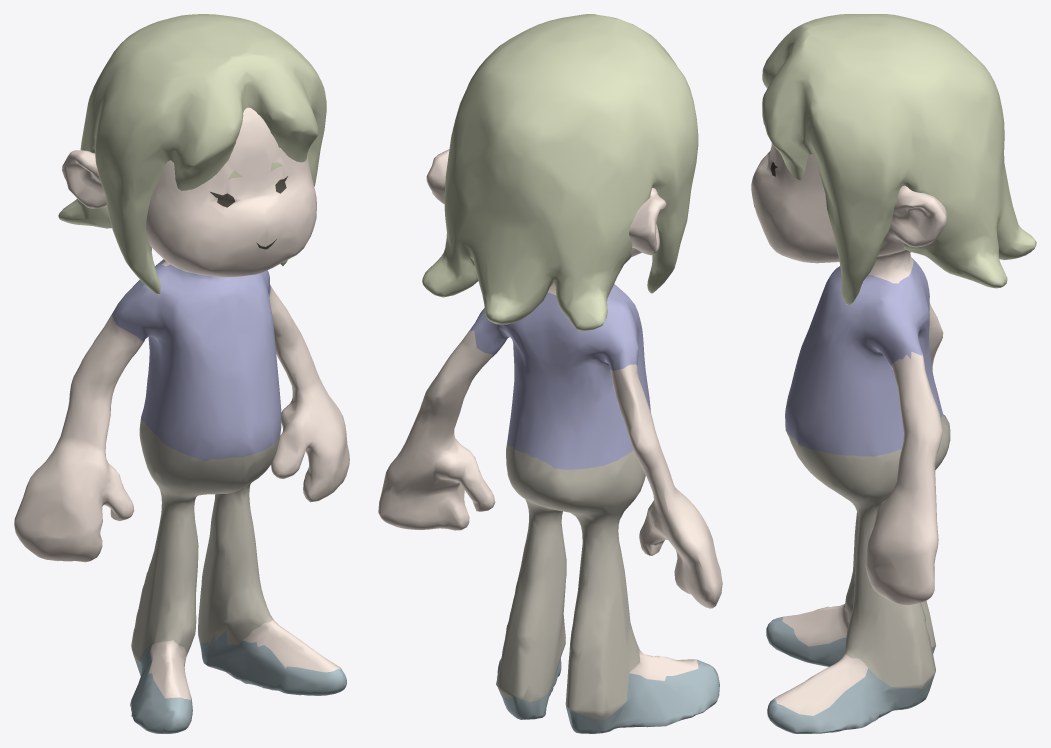
The model's file is blue.fbx.
The picture shows the model from 3 angles, left to right: view 1: azimuth 30°, elevation 25°; view 2: azimuth 150°, elevation 25°; view 3: azimuth 270°, elevation 25°; orthographic projection. The views are drawn at different scales.
Parts seen in each view (by area): view 1: PM3D_Sphere3D2; view 2: PM3D_Sphere3D2; view 3: PM3D_Sphere3D2.
Part boxes in pixels (box(x1,y1,x2,y2)): PM3D_Sphere3D2: box(14, 14, 349, 733); PM3D_Sphere3D2: box(378, 14, 722, 733); PM3D_Sphere3D2: box(751, 14, 1036, 733).
Bounding box in the file's own units: 5.05 × 9.69 × 3.76.
